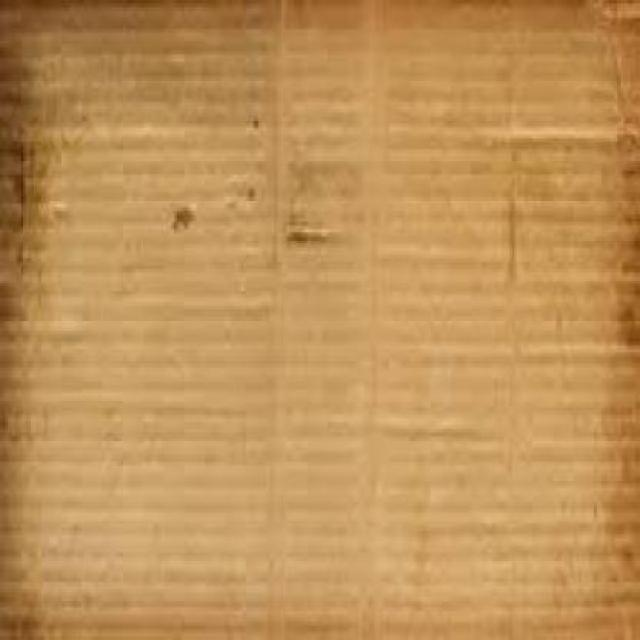CARDBOARD: (0, 3, 638, 640)
